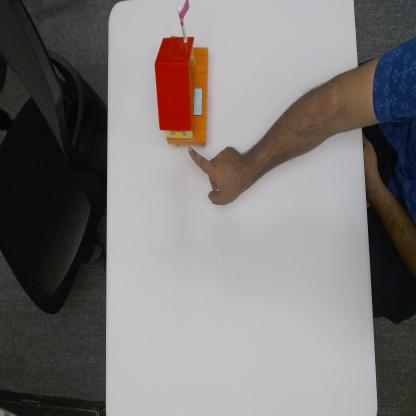Arm: (252, 72, 364, 178)
Hand: (186, 141, 254, 207)
House: (153, 1, 211, 146)
